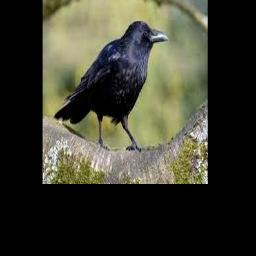Crow: (54, 21, 169, 151)
